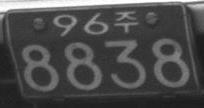3: (104, 39, 146, 89)
6: (83, 13, 109, 36)
8: (151, 36, 190, 89), (63, 40, 103, 91), (20, 43, 59, 92)
9: (52, 13, 77, 36)
주: (114, 10, 138, 33)
